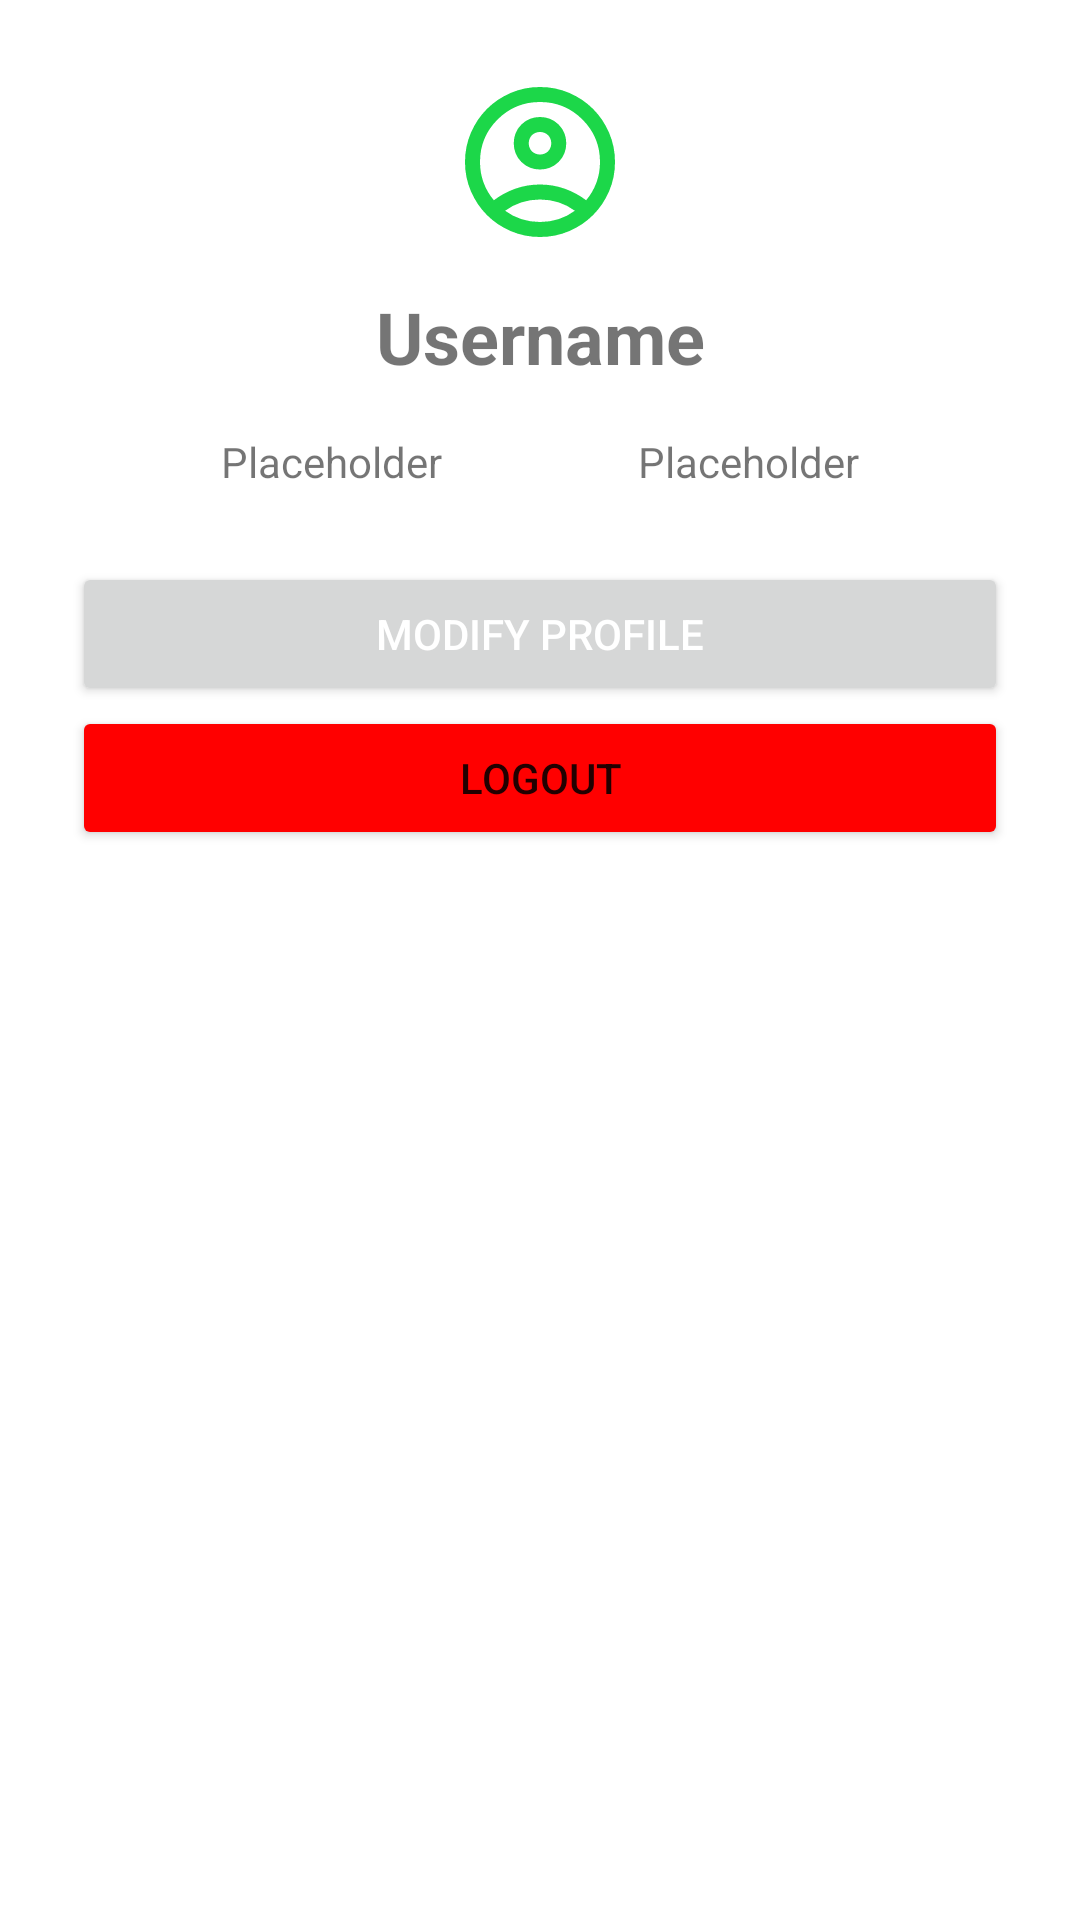

Locate icon controls on the screen. Image size 1080w x 1920h, boxes as (x1, y1, x2, y2).
profile image: (465, 87, 615, 237)
